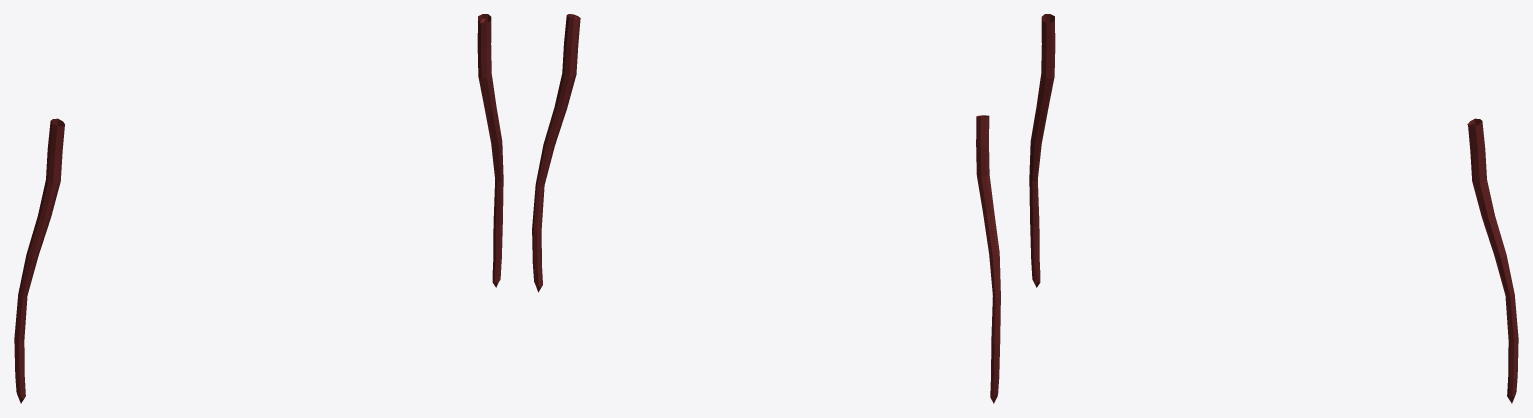
File: Artéria Poplitea.FBX
3 views of the same model, side by side, from view 1: azimuth 30°, elevation 25°; view 2: azimuth 150°, elevation 25°; view 3: azimuth 330°, elevation 25° (orthographic). The views are drawn at different scales.
Visible parts, largest first — view 1: CS_Arterie; view 2: CS_Arterie; view 3: CS_Arterie.
Part boxes in pixels (x1,y1,x2,y2): CS_Arterie: (14, 14, 503, 403); CS_Arterie: (532, 14, 1000, 403); CS_Arterie: (1029, 14, 1518, 403).
Size of the model in its own units: 981 by 552 by 63.8.
